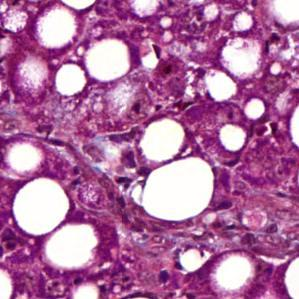steatosis: (140, 156, 218, 221), (13, 179, 71, 236), (85, 37, 133, 81)
